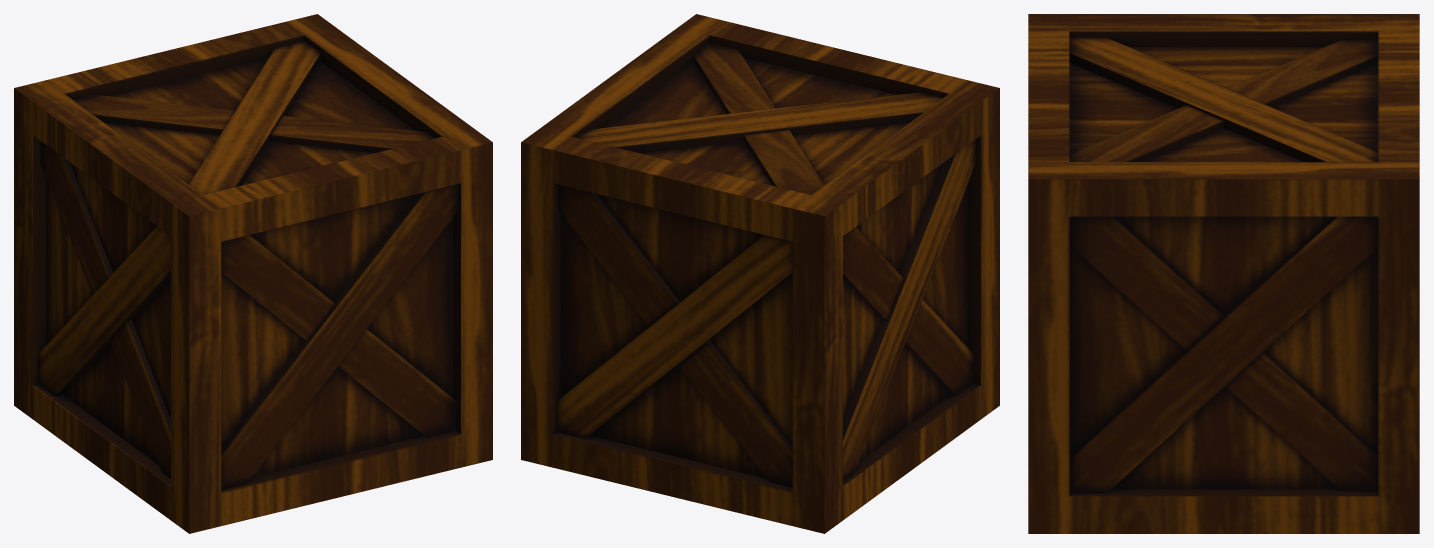
3 renders of one model, left to right at view 1: azimuth 30°, elevation 25°; view 2: azimuth 150°, elevation 25°; view 3: azimuth 270°, elevation 25°, orthographic. The views are drawn at different scales.
Parts seen in each view (by area): view 1: Caja.005; view 2: Caja.005; view 3: Caja.005.
Part boxes in pixels (x1=…): Caja.005: x1=14, y1=14, x2=492, y2=533; Caja.005: x1=521, y1=14, x2=999, y2=533; Caja.005: x1=1028, y1=14, x2=1419, y2=533.
Bounding box in the file's own units: 78.48 × 78.48 × 78.48.
1 material, 1 textured.
